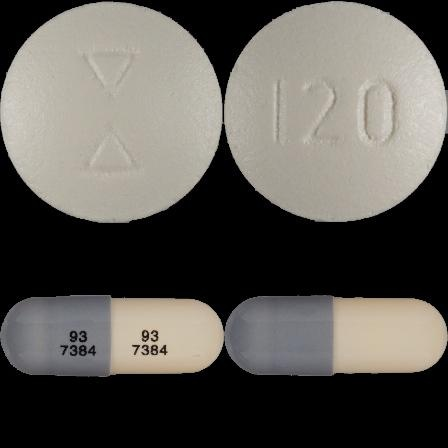63629-4717: (0, 0, 224, 224)
